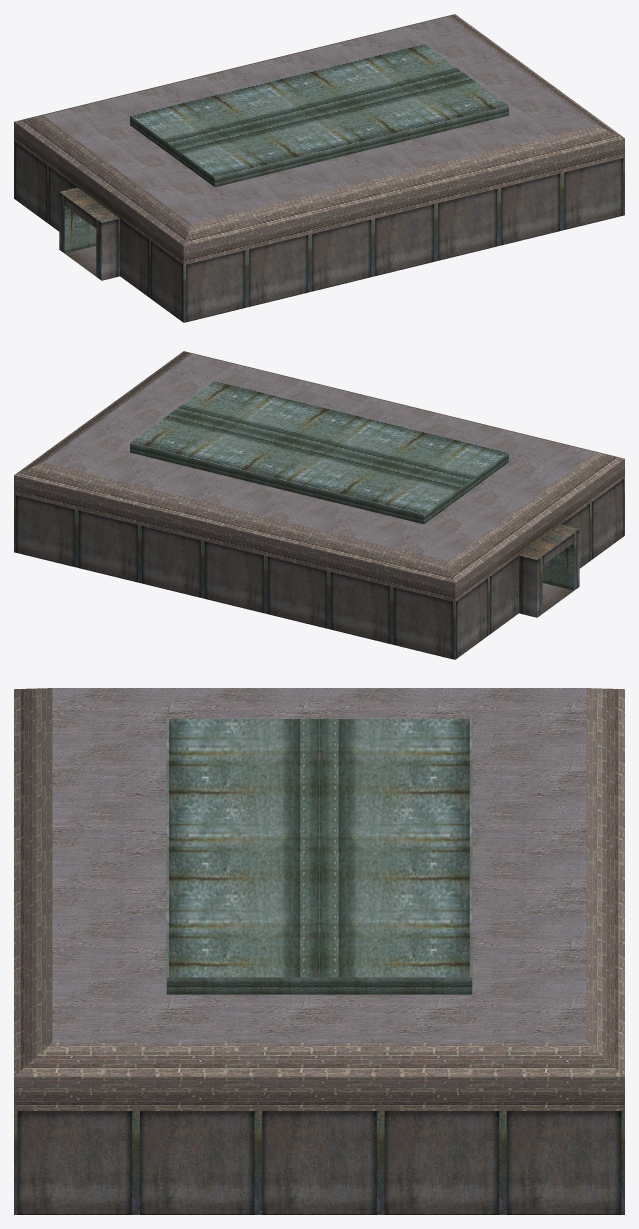
File: M10_Z02Base_22_Shelter.glb
3 renders of one model, top to bottom at view 1: azimuth 30°, elevation 25°; view 2: azimuth 150°, elevation 25°; view 3: azimuth 270°, elevation 25°, orthographic. The views are drawn at different scales.
Parts seen in each view (by area): view 1: M10_Z02BASE_22_SHELTER; view 2: M10_Z02BASE_22_SHELTER; view 3: M10_Z02BASE_22_SHELTER.
Part boxes in pixels (x1=…): M10_Z02BASE_22_SHELTER: x1=14, y1=14, x2=624, y2=322; M10_Z02BASE_22_SHELTER: x1=14, y1=351, x2=624, y2=659; M10_Z02BASE_22_SHELTER: x1=14, y1=688, x2=624, y2=1214.
Bounding box in the file's own units: 25 × 7 × 16.
6 materials, 5 textured.
